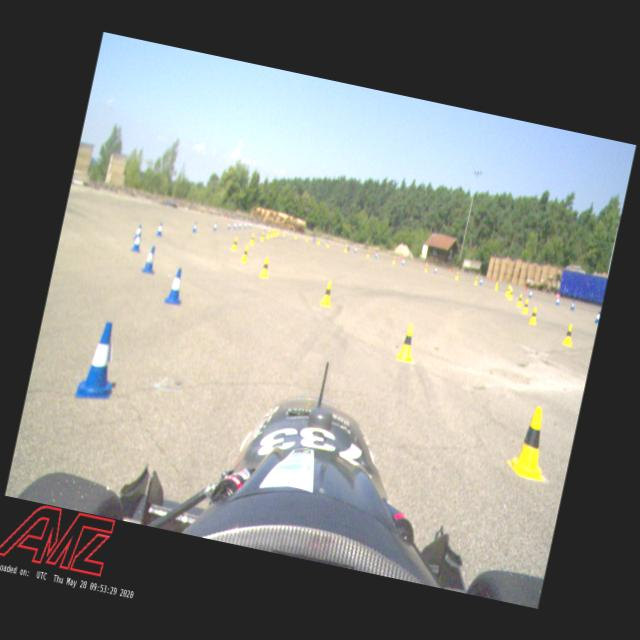blue_cone: (73, 316, 125, 402), (164, 265, 186, 306), (141, 243, 160, 276), (131, 230, 143, 252), (133, 223, 142, 240), (156, 220, 164, 237), (594, 309, 600, 323), (212, 220, 218, 232), (569, 299, 575, 310), (192, 222, 198, 232), (555, 296, 560, 305), (227, 221, 231, 229), (479, 276, 483, 284), (233, 221, 237, 228)
yellow_cone: (505, 400, 559, 482), (394, 320, 421, 364), (319, 280, 335, 308), (258, 255, 272, 279), (562, 322, 576, 346), (528, 304, 540, 324), (239, 244, 250, 264), (521, 298, 530, 314), (230, 236, 238, 252), (515, 292, 523, 307), (506, 287, 514, 301), (248, 232, 256, 244), (258, 230, 266, 241), (454, 270, 460, 280), (494, 280, 499, 290), (266, 229, 271, 238), (473, 276, 478, 284)
